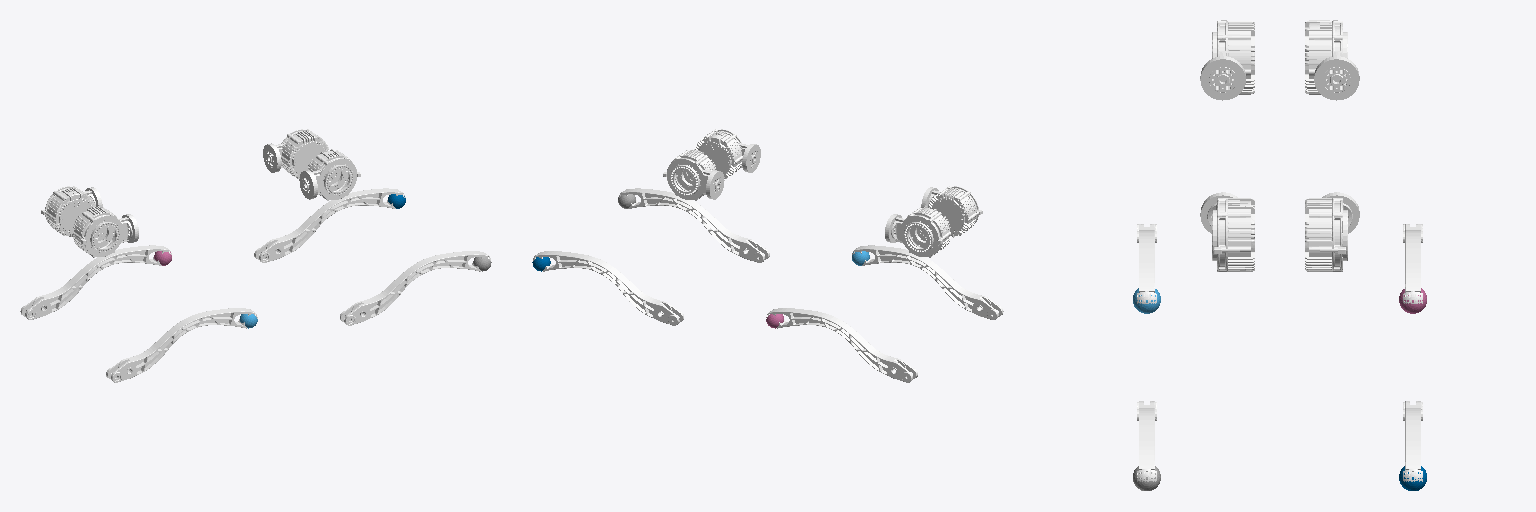
--- Facts derived from the render (not from the file) ---
Views: 3 orthographic renders of the robot side by side, from view 1: azimuth 30°, elevation 25°; view 2: azimuth 150°, elevation 25°; view 3: azimuth 270°, elevation 25°.
Robot: A01-B — 23 links, 22 joints (12 revolute, 10 fixed); root link base; default pose: joints at zero except 4 at the middle of their limits (FR_calf_joint = 1.72, FL_calf_joint = 1.72, RR_calf_joint = 1.72, RL_calf_joint = 1.72).
Links seen in each view (by area): view 1: RR_calf, FR_calf, RL_calf, FL_calf, RR_hip, FR_hip, FL_hip, RL_hip; view 2: RL_calf, FL_calf, RR_calf, FR_calf, RL_hip, FL_hip, FR_hip, RR_hip; view 3: RL_hip, FL_hip, RR_hip, FR_hip, FR_calf, FL_calf, RR_calf, RL_calf.
Link boxes in pixels (x1=…): RR_calf: x1=106, y1=308, x2=257, y2=382; FR_calf: x1=340, y1=251, x2=490, y2=325; RL_calf: x1=20, y1=245, x2=171, y2=319; FL_calf: x1=254, y1=188, x2=405, y2=262; RR_hip: x1=73, y1=206, x2=138, y2=257; FR_hip: x1=299, y1=149, x2=360, y2=200; FL_hip: x1=263, y1=129, x2=328, y2=178; RL_hip: x1=41, y1=186, x2=102, y2=236; RL_calf: x1=766, y1=308, x2=917, y2=382; FL_calf: x1=533, y1=251, x2=683, y2=325; RR_calf: x1=852, y1=245, x2=1003, y2=319; FR_calf: x1=618, y1=188, x2=769, y2=262; RL_hip: x1=885, y1=206, x2=950, y2=257; FL_hip: x1=663, y1=149, x2=724, y2=200; FR_hip: x1=695, y1=129, x2=760, y2=178; RR_hip: x1=921, y1=186, x2=982, y2=237; RL_hip: x1=1305, y1=20, x2=1359, y2=100; FL_hip: x1=1305, y1=192, x2=1359, y2=271; RR_hip: x1=1200, y1=20, x2=1254, y2=100; FR_hip: x1=1200, y1=192, x2=1254, y2=271; FR_calf: x1=1137, y1=401, x2=1156, y2=481; FL_calf: x1=1403, y1=401, x2=1422, y2=481; RR_calf: x1=1137, y1=224, x2=1156, y2=303; RL_calf: x1=1403, y1=224, x2=1422, y2=303.
Bounding box of the posed robot: 1.22 × 0.5186 × 0.4416 m (x, y, z).
8 mesh visuals loaded from 5 distinct referenced files (2 Collada DAE); not drawn: 5 (reference not matched to a file when rendering).

URDF robot description (A01-B):
<?xml version="1.0" encoding="utf-8"?>
<robot name="A01-B">
	
  <link name="base">
    <visual>
      <origin rpy="0 0 0" xyz="0 0 0"/>
      <geometry>
        <box size="0.001 0.001 0.001"/>
      </geometry>
    </visual>
  </link>

  <joint name="floating_base" type="fixed">
    <origin rpy="0 0 0" xyz="0 0 0"/>
    <parent link="base"/>
    <child link="trunk"/>
  </joint>

  <link name="trunk">
    <visual>
      <origin xyz="0 0 0" rpy="0 0 0"/>
      <geometry>
        <mesh filename="../meshes/trunk.dae" scale="1 1 1"/>
      </geometry>
      <material name="base_color">
        <color rgba="0.79216 0.81961 0.93333 1"/>
      </material>
    </visual>
    <collision>
      <origin xyz="0 0 0" rpy="0 0 0"/>
      <geometry>
		<box size="0.56 0.34 0.16"/>  <!-- Used blender to make boxes and x2 to get final values -->
        <!-- <mesh filename="../meshes/base_link.STL"/> -->
      </geometry>
    </collision>
    <inertial>
      <!-- <origin xyz="0.00794154323126122 -0.00567038545002237 0.00730825848962973" rpy="0 0 0"/> -->
      <origin xyz="0.0107546 -0.0080469 0.0078565" rpy="0 0 0"/>
      <mass value="30.0746"/>
      <inertia ixx="0.3193973603" ixy="0.0068169793" ixz="0.0488468142" iyy="1.180104420" iyz="0.0010136007" izz="1.3495092040"/>
    </inertial>
  </link>

  <joint name="imu_joint" type="fixed">
    <parent link="trunk"/>
    <child link="imu_link"/>
    <origin rpy="0 0 0" xyz="0 0 0"/>
  </joint>

  <link name="imu_link">
    <inertial>
      <mass value="0.001"/>
      <origin rpy="0 0 0" xyz="0 0 0"/>
      <inertia ixx="0.0001" ixy="0" ixz="0" iyy="0.0001" iyz="0" izz="0.0001"/>
    </inertial>
    <visual>
      <origin rpy="0 0 0" xyz="0 0 0"/>
      <geometry>
        <box size="0.001 0.001 0.001"/>
      </geometry>
      <material name="">
        <color rgba="1 1 1 1"/>
      </material>
    </visual>
  </link>
	
  <joint name="FR_hip_joint" type="revolute">
    <origin xyz="0.36975 -0.1 0" rpy="0 0 0"/>
    <parent link="trunk"/>
    <child link="FR_hip"/>
    <axis xyz="1 0 0"/>
		<dynamics damping="0" friction="0"/>
    <limit lower="-0.7854"  upper="0.7854" effort="200"  velocity="9.21"/>
  </joint>

  <link name="FR_hip">
    <inertial>
      <origin xyz="-0.022282 0.016137 0.000446" rpy="3.14 0 3.14"/>
      <mass value="2.4"/>
      <inertia ixx="0.000525995" ixy="-0.000120548" ixz="-0.00000523" iyy="0.001109" iyz="-0.000004269" izz="0.000940"/>
    </inertial>
    <visual>
      <origin xyz="0 0 0" rpy="3.14 0 3.14"/>
      <geometry>
        <mesh filename="../meshes/hip.dae" scale="1 1 1"/>
      </geometry>
      <material name="">
        <color rgba="1 1 1 1"/>
      </material>
    </visual>
    <!-- <collision>
      <origin xyz="0 0 0" rpy="3.14 0 3.14"/>
      <geometry>
        <mesh filename="../meshes/hr_abad.STL"/>
      </geometry>
    </collision> -->

    <collision>
      <origin xyz="0 -0.065 0" rpy="1.570795 0 0"/>
      <geometry>
        <cylinder length="0.21" radius="0.065"/>
        <!-- <mesh filename="./meshes/A01b/hl_abad.STL"/> -->
      </geometry>
    </collision>
  </link>

  <joint name="FR_hip_fixed" type="fixed">
    <origin rpy="0 0 0" xyz="0 -0.081 0"/>
    <parent link="FR_hip"/>
    <child link="FR_thigh_shoulder"/>
  </joint>
  <!-- this link is only for collision -->
  <link name="FR_thigh_shoulder">
    <!-- <collision>
      <origin rpy="1.57079632679 0 0" xyz="0 -0.058 0"/>
      <geometry>
        <cylinder length="0.055" radius="0.07"/>
      </geometry>
    </collision> -->
  </link>

  <joint name="FR_thigh_joint"  type="revolute">
    <origin xyz="0 -0.1343 0" rpy="0 0 0"/>
    <parent link="FR_hip"/>
    <child  link="FR_thigh"/>
    <axis  xyz="0 -1 0"/>
		<dynamics damping="0" friction="0"/>
    <limit lower="-3.1765"   upper="0"  effort="200" velocity="14.4"/>
  </joint>

  <link name="FR_thigh">
    <inertial>
      <origin xyz="-0.00344 0.057962 -0.023227" rpy="0 0 0"/>
      <mass value="4.832"/>
      <inertia ixx="0.034310220" ixy="-0.000914577" ixz="-0.002192411" iyy="0.030729623" iyz="-0.006644699" izz="0.007080026"/>
    </inertial>
    <visual>
      <origin
        xyz="0 0 0"
        rpy="0 0 0"/>
      <geometry>
        <mesh
          filename="../meshes/thigh_mirror.dae" scale="1 1 1"/>
      </geometry>
      <material name="">
        <color rgba="1 1 1 1"/>
      </material>
    </visual>
    <collision>
      <origin xyz="0 -0.004 -0.175" rpy="0 0 0"/>
      <geometry>
        <box size="0.06 0.056 0.348"/>
        <!-- <mesh filename="../meshes/fr_thigh_mirror.STL"/> -->
      </geometry>
    </collision>
  </link>

  <joint name="FR_calf_joint" type="revolute">
    <origin xyz="0.0 0 -0.35"  rpy="0 0 0"/>
    <parent link="FR_thigh"/>
    <child link="FR_calf"/>
    <axis xyz="0 -1 0"/>
		<dynamics damping="0" friction="0"/>
    <!-- <limit  lower="0.53163"  upper="2.75148"  effort="200" velocity="10.94"/> -->
    <limit  lower="0.6981"  upper="2.75148"  effort="200" velocity="10.94"/>
  </joint>

  <link name="FR_calf">
    <inertial>
      <origin xyz="0.01656 0.000105 -0.179108" rpy="0 0 0"/>
      <mass value="0.611"/>
      <inertia ixx="0.015478593" ixy="0.000001262" ixz="0.000740896" iyy="0.015806166" iyz="-0.000014215" izz="0.000413430"/>
    </inertial>
    <visual>
      <origin
        xyz="0 0 0"
        rpy="0 0 0"/>
      <geometry>
        <mesh
          filename="../meshes/calf.dae" scale="1 1 1"/>
      </geometry>
      <material
        name="">
        <color rgba="1 1 1 1"/>
      </material>
    </visual>
    <!-- <collision>
      <origin xyz="0 0 -0.19" rpy="0 0 0"/>
      <geometry>
        <box size="0.040 0.026 0.38"/>
        <mesh filename="../meshes/fl_calf.STL"/>
      </geometry>
    </collision> -->
    <collision>
      <origin
        xyz="0.025 0 -0.11"
        rpy="0 -0.3 0.0"/>
      <geometry>
        <box size="0.04 0.026 0.24"/>
        <!-- <mesh filename="package://quad_description/meshes/A01b/fr_calf.STL"/> -->
      </geometry>
    </collision>

    <collision>
      <origin
        xyz="0.075 0 -0.232"
        rpy="0 0.0 0.0"/>
      <geometry>
        <box size="0.01 0.026 0.02"/>
        <!-- <mesh filename="package://quad_description/meshes/A01b/fr_calf.STL"/> -->
      </geometry>
    </collision>

    <collision>
      <origin
        xyz="0.035 0 -0.31"
        rpy="0 0.35 0.0"/>
      <geometry>
        <box size="0.042 0.026 0.15"/>
        <!-- <mesh filename="package://quad_description/meshes/A01b/fr_calf.STL"/> -->
      </geometry>
    </collision>

  </link>

  <joint name="FR_foot_fixed" type="fixed" dont_collapse="true">
      <parent link="FR_calf"/>
      <child link="FR_foot"/>
      <origin rpy="0 0 0" xyz="-0.0 0 -0.39"/>
  </joint>

  <!-- Foot link -->
  <link name="FR_foot">
      <inertial>
            <origin rpy="0 0 0" xyz="0.0 0 0"/>
            <mass value="0.1"/>
            <inertia ixx="1e-8" ixy="0" ixz="0" iyy="1e-8" iyz="0" izz="1e-8"/>
      </inertial>
      <visual>
        <origin rpy="0 0 0" xyz="0 0 0"/>
          <geometry>
               <sphere radius="0.025"/>
          </geometry>
      </visual>
      <collision>
            <origin xyz="0 0 0"/>
            <geometry>
                <sphere radius="0.025"/>
                <!-- <mesh filename="../meshes/foot_70mm.STL"/> -->
            </geometry>
      </collision>
  </link>

  <joint name="FL_hip_joint" type="revolute">
    <origin xyz="0.36975 0.1 0" rpy="0 0 0"/>
    <parent link="trunk"/>
    <child link="FL_hip"/>
    <axis xyz="1 0 0"/>
		<dynamics damping="0" friction="0"/>
    <limit lower="-0.7854" upper="0.7854" effort="200" velocity="9.21"/>
  </joint>

  <link name="FL_hip">
    <inertial>
      <origin xyz="-0.022282 -0.016137 0.000446" rpy="0 0 0"/>
      <mass value="2.4"/>
      <inertia ixx="0.000525995" ixy="0.000120548" ixz="-0.00000523" iyy="0.001109" iyz="0.000004269" izz="0.000940"/>
    </inertial>
    <visual>
      <origin xyz="0 0 0" rpy="0 0 3.14"/>
      <geometry>
        <mesh filename="../meshes/hip.dae" scale="1 1 1"/>
      </geometry>
      <material
        name="">
        <color rgba="1 1 1 1"/>
      </material>
    </visual>
    <!-- <collision>
      <origin xyz="0 0 0" rpy="0 0 3.14"/>
      <geometry>
        <mesh filename="../meshes/hr_abad.STL"/>
      </geometry>
    </collision> -->

    <collision>
      <origin xyz="0 0.065 0" rpy="1.570795 0 0"/>
      <geometry>
        <cylinder length="0.21" radius="0.065"/>
        <!-- <mesh filename="./meshes/A01b/fr_abad.STL"/> -->
      </geometry>
    </collision>
  </link>

  <joint name="FL_hip_fixed" type="fixed">
    <origin rpy="0 0 0" xyz="0 0.081 0"/>
    <parent link="FL_hip"/>
    <child link="FL_thigh_shoulder"/>
  </joint>
  <!-- this link is only for collision -->
  <link name="FL_thigh_shoulder">
    <!-- <collision>
      <origin rpy="1.57079632679 0 0" xyz="0 0.058 0"/>
      <geometry>
        <cylinder length="0.055" radius="0.07"/>
      </geometry>
    </collision> -->
  </link>

<joint name="FL_thigh_joint" type="revolute">
    <origin xyz="0 0.1343 0" rpy="0 0 0"/>
    <parent link="FL_hip"/>
    <child link="FL_thigh"/>
    <axis xyz="0 -1 0"/>
		<dynamics damping="0" friction="0"/>
    <limit lower="-3.1765" upper="0" effort="200" velocity="14.4"/>
  </joint>

  <link name="FL_thigh">
    <inertial>
      <origin xyz="-0.00344 -0.057962 -0.023227" rpy="0 0 0"/>
      <mass value="4.832"/>
      <inertia ixx="0.034310220" ixy="0.000914577" ixz="-0.002192411" iyy="0.030729623" iyz="0.006644699" izz="0.007080026"/>
    </inertial>
    <visual>
      <origin xyz="0 0 0" rpy="0 0 0"/>
      <geometry>
        <mesh filename="../meshes/thigh.dae" scale="1 1 1"/>
      </geometry>
      <material
        name="">
        <color rgba="1 1 1 1"/>
      </material>
    </visual>
    <collision>
      <origin xyz="0 0.004 -0.175" rpy="0 0 0"/>
      <geometry>
        <box size="0.06 0.056 0.348"/>
        <!-- <mesh filename="../meshes/fl_thigh.STL"/> -->
      </geometry>
    </collision>
  </link>

  <joint name="FL_calf_joint" type="revolute">
    <origin xyz="0.0 0 -0.35" rpy="0 0 0"/>
    <parent link="FL_thigh"/>
    <child link="FL_calf"/>
    <axis xyz="0 -1 0"/>
		<dynamics damping="0" friction="0"/>
    <limit  lower="0.6981"  upper="2.75148"  effort="200" velocity="10.94"/>
  </joint>

  <link name="FL_calf">
    <inertial>
      <origin
        xyz="0.01656 -0.000105 -0.179108"
        rpy="0 0 0"/>
      <mass value="0.611"/>
      <inertia ixx="0.015478593" ixy="-0.000001262" ixz="0.000740896" iyy="0.015806166" iyz="0.000014215" izz="0.000413430"/>
    </inertial>
    <visual>
      <origin
        xyz="0 0 0"
        rpy="0 0 0"/>
      <geometry>
        <mesh
          filename="../meshes/calf.dae" scale="1 1 1"/>
      </geometry>
      <material
        name="">
        <color
          rgba="1 1 1 1"/>
      </material>
    </visual>
    <!-- <collision>
      <origin xyz="0 0 -0.19" rpy="0 0 0"/>
      <geometry>
        <box size="0.040 0.026 0.38"/>
        <mesh filename="../meshes/fl_calf.STL"/>
      </geometry>
    </collision> -->
        <collision>
      <origin
        xyz="0.025 0 -0.11"
        rpy="0 -0.3 0.0"/>
      <geometry>
        <box size="0.04 0.026 0.24"/>
        <!-- <mesh filename="package://quad_description/meshes/A01b/fr_calf.STL"/> -->
      </geometry>
    </collision>

    <collision>
      <origin
        xyz="0.075 0 -0.232"
        rpy="0 0.0 0.0"/>
      <geometry>
        <box size="0.01 0.026 0.02"/>
        <!-- <mesh filename="package://quad_description/meshes/A01b/fr_calf.STL"/> -->
      </geometry>
    </collision>

    <collision>
      <origin
        xyz="0.035 0 -0.31"
        rpy="0 0.35 0.0"/>
      <geometry>
        <box size="0.042 0.026 0.15"/>
        <!-- <mesh filename="package://quad_description/meshes/A01b/fr_calf.STL"/> -->
      </geometry>
    </collision>
  </link>

  <joint name="FL_foot_fixed" type="fixed" dont_collapse="true">
      <parent link="FL_calf"/>
      <child link="FL_foot"/>
      <origin rpy="0 0 0" xyz="-0.0 0 -0.39"/>
  </joint>

  <!-- Foot link -->
  <link name="FL_foot">
      <inertial>
            <origin rpy="0 0 0" xyz="0.0 0 0"/>
            <mass value="0.1"/>
            <inertia ixx="1e-8" ixy="0" ixz="0" iyy="1e-8" iyz="0" izz="1e-8"/>
      </inertial>
      <visual>
        <origin rpy="0 0 0" xyz="0 0 0"/>
          <geometry>
               <sphere radius="0.025"/>
          </geometry>
      </visual>
      <collision>
            <origin xyz="0 0 0"/>
            <geometry>
                <sphere radius="0.025"/>
                <!-- <mesh filename="../meshes/foot_70mm.STL"/> -->
            </geometry>
      </collision>
  </link>

  <joint name="RR_hip_joint" type="revolute">
    <origin xyz="-0.36975 -0.1 -0" rpy="0 0 0"/>
    <parent link="trunk"/>
    <child link="RR_hip"/>
    <axis xyz="1 0 0"/>
		<dynamics damping="0" friction="0"/>
    <limit lower="-0.7854" upper="0.7854" effort="200" velocity="9.21"/>
  </joint>

  <link name="RR_hip">
    <!-- <inertial>
      <origin
        xyz="0.014896 0.015941 0.000233"
        rpy="0 0 0"/>
      <mass
        value="2.4"/>
      <inertia ixx="0.003166456" ixy="0.000602743" ixz="0.000014925" iyy="0.006559053" iyz="-0.000022984" izz="0.005561835"/>
    </inertial> -->
    <inertial>
      <origin xyz="0.022282 0.016137 0.000446" rpy="0 0 0"/>
      <mass value="2.4"/>
      <inertia ixx="0.000525995" ixy="0.000120548" ixz="0.00000523" iyy="0.001109" iyz="-0.000004269" izz="0.000940"/>
    </inertial>
    <visual>
      <origin xyz="0 0 0" rpy="0 0 0"/>
      <geometry>
        <mesh filename="../meshes/hip.dae" scale="1 1 1"/>
      </geometry>
      <material
        name="">
        <color rgba="1 1 1 1"/>
      </material>
    </visual>
    <!-- <collision>
      <origin xyz="0 0 0" rpy="0 0 0"/>
      <geometry>
        <mesh filename="../meshes/hr_abad.STL"/>
      </geometry>
    </collision> -->

    <collision>
      <origin xyz="0 -0.065 0" rpy="1.570795 0 0"/>
      <geometry>
        <cylinder length="0.21" radius="0.065"/>
        <!-- <mesh filename="./meshes/A01b/fl_abad.STL"/> -->
      </geometry>
    </collision>
  </link>

  <joint name="RR_hip_fixed" type="fixed">
    <origin rpy="0 0 0" xyz="0 -0.081 0"/>
    <parent link="RR_hip"/>
    <child link="RR_thigh_shoulder"/>
  </joint>
  <!-- this link is only for collision -->
  <link name="RR_thigh_shoulder">
    <!-- <collision>
      <origin rpy="1.57079632679 0 0" xyz="0 -0.058 0"/>
      <geometry>
        <cylinder length="0.055" radius="0.07"/>
      </geometry>
    </collision> -->
  </link>

  <joint name="RR_thigh_joint" type="revolute">
    <origin xyz="0 -0.1343 0" rpy="0 0 0"/>
    <parent link="RR_hip"/>
    <child link="RR_thigh"/>
    <axis xyz="0 -1 0"/>
		<dynamics damping="0" friction="0"/>
    <limit lower="-3.1765" upper="0" effort="200" velocity="14.4"/>
  </joint>

  <link
    name="RR_thigh">
    <inertial>
      <origin
        xyz="0.00344 0.057962 -0.023227"
        rpy="0 0 0"/>
      <mass
        value="4.832"/>
      <inertia ixx="0.034310220" ixy="0.000914577" ixz="0.002192411" iyy="0.030729623" iyz="-0.006644699" izz="0.007080026"/>
    </inertial>
    <visual>
      <origin
        xyz="0 0 0"
        rpy="0 0 0"/>
      <geometry>
        <mesh
          filename="../meshes/thigh_mirror.dae" scale="1 1 1"/>
      </geometry>
      <material
        name="">
        <color
          rgba="1 1 1 1"/>
      </material>
    </visual>
    <collision>
      <origin xyz="0 -0.004 -0.175" rpy="0 0 0"/>
      <geometry>
        <box size="0.06 0.056 0.348"/>
        <!-- <mesh filename="../meshes/fr_thigh_mirror.STL"/> -->
      </geometry>
    </collision>
  </link>

  <joint name="RR_calf_joint" type="revolute">
    <origin xyz="0.0 0 -0.35" rpy="0 0 0"/>
    <parent link="RR_thigh"/>
    <child link="RR_calf"/>
    <axis xyz="0 -1 0"/>
		<dynamics damping="0" friction="0"/>
    <limit  lower="0.6981"  upper="2.75148"  effort="200" velocity="10.94"/>
  </joint>

  <link name="RR_calf">
    <inertial>
      <origin xyz="0.01656 0.000105 -0.179108" rpy="0 0 0"/>
      <mass value="0.611"/>
      <inertia ixx="0.015478593" ixy="0.000001262" ixz="0.000740896" iyy="0.015806166" iyz="-0.000014215" izz="0.000413430"/>
    </inertial>
    <visual>
      <origin
        xyz="0 0 0"
        rpy="0 0 0"/>
      <geometry>
        <mesh filename="../meshes/calf.dae" scale="1 1 1"/>
      </geometry>
      <material
        name="">
        <color rgba="1 1 1 1"/>
      </material>
    </visual>
    <!-- <collision>
      <origin xyz="0 0 -0.19" rpy="0 0 0"/>
      <geometry>
        <box size="0.040 0.026 0.38"/>
        <mesh filename="../meshes/fl_calf.STL"/>
      </geometry>
    </collision> -->
    <collision>
      <origin
        xyz="0.025 0 -0.11"
        rpy="0 -0.3 0.0"/>
      <geometry>
        <box size="0.04 0.026 0.24"/>
        <!-- <mesh filename="package://quad_description/meshes/A01b/fr_calf.STL"/> -->
      </geometry>
    </collision>

    <collision>
      <origin
        xyz="0.075 0 -0.232"
        rpy="0 0.0 0.0"/>
      <geometry>
        <box size="0.01 0.026 0.02"/>
        <!-- <mesh filename="package://quad_description/meshes/A01b/fr_calf.STL"/> -->
      </geometry>
    </collision>

    <collision>
      <origin
        xyz="0.035 0 -0.31"
        rpy="0 0.35 0.0"/>
      <geometry>
        <box size="0.042 0.026 0.15"/>
        <!-- <mesh filename="package://quad_description/meshes/A01b/fr_calf.STL"/> -->
      </geometry>
    </collision>

  </link>


  <joint name="RR_foot_fixed" type="fixed" dont_collapse="true">
      <parent link="RR_calf"/>
      <child link="RR_foot"/>
      <origin rpy="0 0 0" xyz="-0.0 0 -0.39"/>
  </joint>

  <!-- Foot link -->
  <link name="RR_foot">
      <inertial>
            <origin rpy="0 0 0" xyz="0.0 0 0"/>
            <mass value="0.1"/>
            <inertia ixx="1e-8" ixy="0" ixz="0" iyy="1e-8" iyz="0" izz="1e-8"/>
      </inertial>
      <visual>
        <origin rpy="0 0 0" xyz="0 0 0"/>
          <geometry>
               <sphere radius="0.025"/>
          </geometry>
      </visual>
      <collision>
            <origin xyz="0 0 0"/>
            <geometry>
                <sphere radius="0.025"/>
                <!-- <mesh filename="../meshes/foot_70mm.STL"/> -->
            </geometry>
      </collision>
  </link>

  <joint name="RL_hip_joint" type="revolute">
    <origin xyz="-0.36975 0.1 0" rpy="0 0 0"/>
    <parent link="trunk"/>
    <child link="RL_hip"/>
    <axis xyz="1 0 0"/>
		<dynamics damping="0" friction="0"/>
    <limit lower="-0.7854" upper="0.7854" effort="200" velocity="9.21"/>
  </joint>

  <link name="RL_hip">
    <!-- <inertial>
      <origin
        xyz="0.014896 -0.015941 0.000233"
        rpy="0 0 0"/>
      <mass value="2.4"/>
      <inertia ixx="0.003166456" ixy="-0.000602743" ixz="0.000014925" iyy="0.006559053" iyz="0.000022984" izz="0.005561835"/>
    </inertial> -->
    <inertial>
      <origin xyz="0.022282 -0.016137 0.000446" rpy="0 0 0"/>
      <mass value="2.4"/>
      <inertia ixx="0.000525995" ixy="-0.000120548" ixz="0.00000523" iyy="0.001109" iyz="0.000004269" izz="0.000940"/>
    </inertial>
    <visual>
      <origin xyz="0 0 0" rpy="3.14 0 0"/>
      <geometry>
        <mesh
          filename="../meshes/hip.dae" scale="1 1 1"/>
      </geometry>
      <material name="">
        <color rgba="1 1 1 1"/>
      </material>
    </visual>
    <!-- <collision>
      <origin xyz="0 0 0" rpy="3.14 0 0"/>
      <geometry>
        <mesh filename="../meshes/hr_abad.STL"/>
      </geometry>
    </collision> -->

    <collision>
      <origin xyz="0 0.065 0" rpy="1.570795 0 0"/>
      <geometry>
        <cylinder length="0.21" radius="0.065"/>
        <!-- <mesh filename="./meshes/A01b/hr_abad.STL"/> -->
      </geometry>
    </collision>
  </link>

  <joint name="RL_hip_fixed" type="fixed">
    <origin rpy="0 0 0" xyz="0 0.081 0"/>
    <parent link="RL_hip"/>
    <child link="RL_thigh_shoulder"/>
  </joint>
  <!-- this link is only for collision -->
  <link name="RL_thigh_shoulder">
    <!-- <collision>
      <origin rpy="1.57079632679 0 0" xyz="0 0.058 0"/>
      <geometry>
        <cylinder length="0.055" radius="0.07"/>
      </geometry>
    </collision> -->
  </link>

  <joint name="RL_thigh_joint" type="revolute">
    <origin xyz="0 0.1343 0" rpy="0 0 0"/>
    <parent link="RL_hip"/>
    <child link="RL_thigh"/>
    <axis xyz="0 -1 0"/>
		<dynamics damping="0" friction="0"/>
    <limit lower="-3.1765" upper="0" effort="200" velocity="14.4"/>
  </joint>

  <link
    name="RL_thigh">
    <inertial>
      <origin
        xyz="0.00344 -0.057962 -0.023227"
        rpy="0 0 0"/>
      <mass
        value="4.832"/>
      <inertia ixx="0.034310220" ixy="-0.000914577" ixz="0.002192411" iyy="0.030729623" iyz="0.006644699" izz="0.007080026"/>
    </inertial>
    <visual>
      <origin
        xyz="0 0 0"
        rpy="0 0 0"/>
      <geometry>
        <mesh
          filename="../meshes/thigh.dae" scale="1 1 1"/>
      </geometry>
      <material
        name="">
        <color
          rgba="1 1 1 1"/>
      </material>
    </visual>
    <collision>
      <origin xyz="0 0.004 -0.175" rpy="0 0 0"/>
      <geometry>
        <box size="0.06 0.056 0.348"/>
        <!-- <mesh filename="../meshes/fl_thigh.STL"/> -->
      </geometry>
    </collision>
  </link>

  <joint name="RL_calf_joint" type="revolute">
    <origin xyz="0.0 0 -0.35" rpy="0 0 0"/>
    <parent link="RL_thigh"/>
    <child link="RL_calf"/>
    <axis xyz="0 -1 0"/>
		<dynamics damping="0" friction="0"/>
    <limit  lower="0.6981"  upper="2.75148"  effort="200" velocity="10.94"/>
  </joint>

  <link name="RL_calf">
    <inertial>
      <origin xyz="0.01656 -0.000105 -0.179108" rpy="0 0 0"/>
      <mass value="0.611"/>
      <inertia ixx="0.015478593" ixy="0.000001262" ixz="0.000740896" iyy="0.015806166" iyz="0.000014215" izz="0.000413430"/>
    </inertial>
    <visual>
      <origin
        xyz="0 0 0"
        rpy="0 0 0"/>
      <geometry>
        <mesh
          filename="../meshes/calf.dae" scale="1 1 1"/>
      </geometry>
      <material
        name="">
        <color
          rgba="1 1 1 1"/>
      </material>
    </visual>
    <!-- <collision>
      <origin xyz="0 0 -0.19" rpy="0 0 0"/>
      <geometry>
        <box size="0.040 0.026 0.38"/>
        <mesh filename="../meshes/fl_calf.STL"/>
      </geometry>
    </collision> -->
    <collision>
      <origin
        xyz="0.025 0 -0.11"
        rpy="0 -0.3 0.0"/>
      <geometry>
        <box size="0.04 0.026 0.24"/>
        <!-- <mesh filename="package://quad_description/meshes/A01b/fr_calf.STL"/> -->
      </geometry>
    </collision>

    <collision>
      <origin
        xyz="0.075 0 -0.232"
        rpy="0 0.0 0.0"/>
      <geometry>
        <box size="0.01 0.026 0.02"/>
        <!-- <mesh filename="package://quad_description/meshes/A01b/fr_calf.STL"/> -->
      </geometry>
    </collision>

    <collision>
      <origin
        xyz="0.035 0 -0.31"
        rpy="0 0.35 0.0"/>
      <geometry>
        <box size="0.042 0.026 0.15"/>
        <!-- <mesh filename="package://quad_description/meshes/A01b/fr_calf.STL"/> -->
      </geometry>
    </collision>
  </link>

  <joint name="RL_foot_fixed" type="fixed" dont_collapse="true">
      <parent link="RL_calf"/>
      <child link="RL_foot"/>
      <origin rpy="0 0 0" xyz="-0.0 0 -0.39"/>
  </joint>

  <!-- Foot link -->
  <link name="RL_foot">
      <inertial>
            <origin rpy="0 0 0" xyz="0.0 0 0"/>
            <mass value="0.1"/>
            <inertia ixx="1e-8" ixy="0" ixz="0" iyy="1e-8" iyz="0" izz="1e-8"/>
      </inertial>
      <visual>
        <origin rpy="0 0 0" xyz="0 0 0"/>
          <geometry>
               <sphere radius="0.025"/>
          </geometry>
      </visual>
      <collision>
            <origin xyz="0 0 0"/>
            <geometry>
                <sphere radius="0.025"/>
                <!-- <mesh filename="../meshes/foot_70mm.STL"/> -->
            </geometry>
      </collision>
  </link>
  
</robot>
